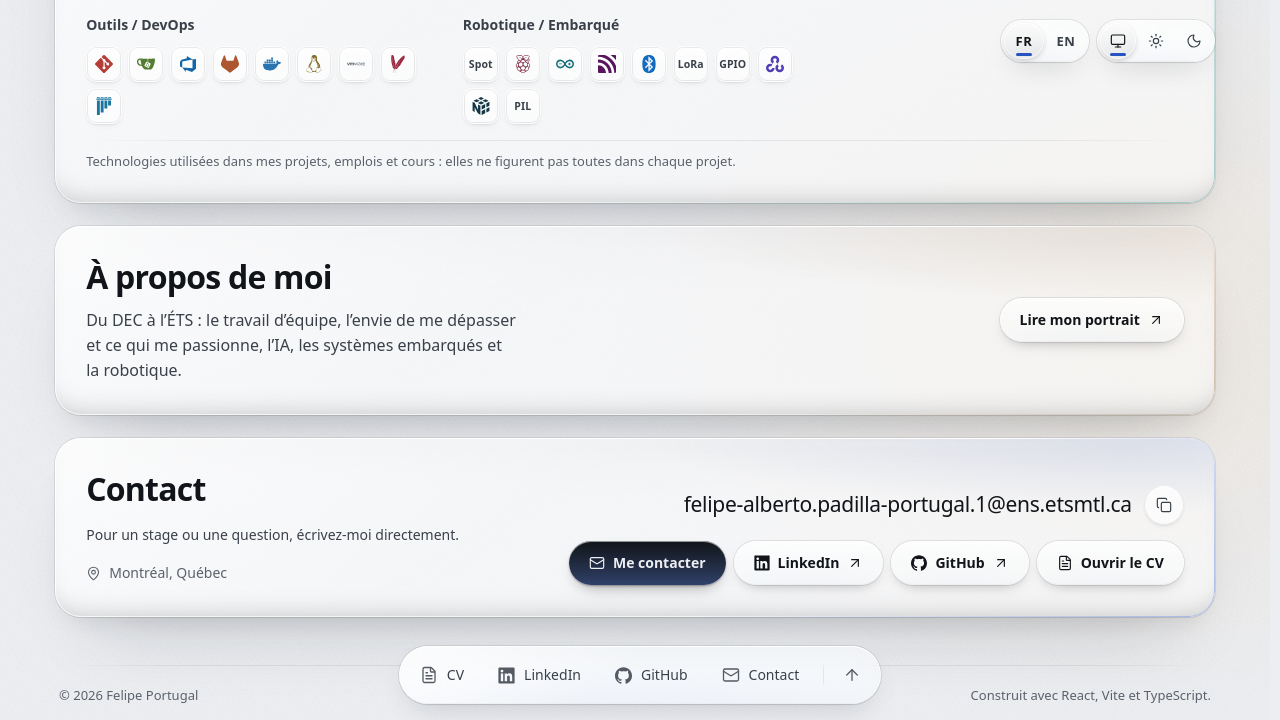
it: fenêtres › ouvre le portrait, puis rend le focus au bouton après Échap
This screenshot has width=1280, height=720.
(page scrolled)
Step 1. Click the button "Lire mon portrait" → click(1092, 320), box [1000,298,1184,342]
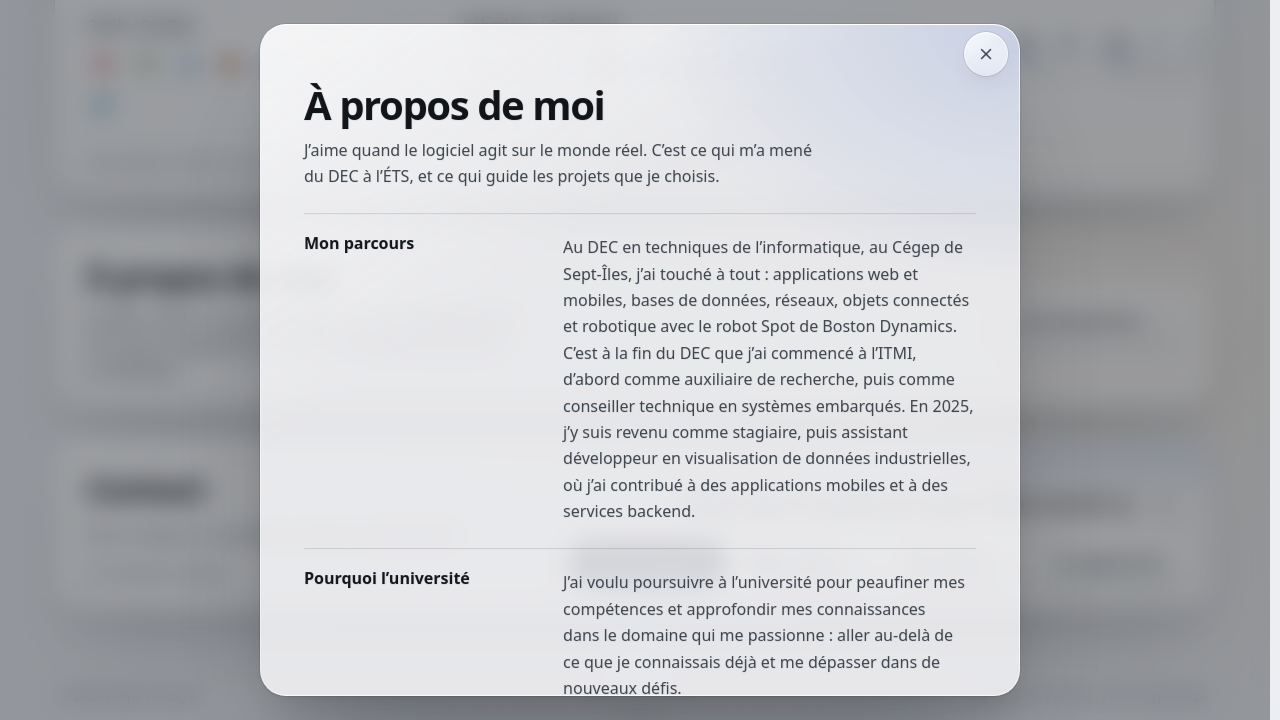
Check: the button "Lire mon portrait" is expanded, box [1000,298,1184,342]
Check: the heading "Pourquoi l’université" is shown, box [304,568,470,590]
Step 2. Press Escape in the dialog "À propos de moi", box [260,24,1020,696]
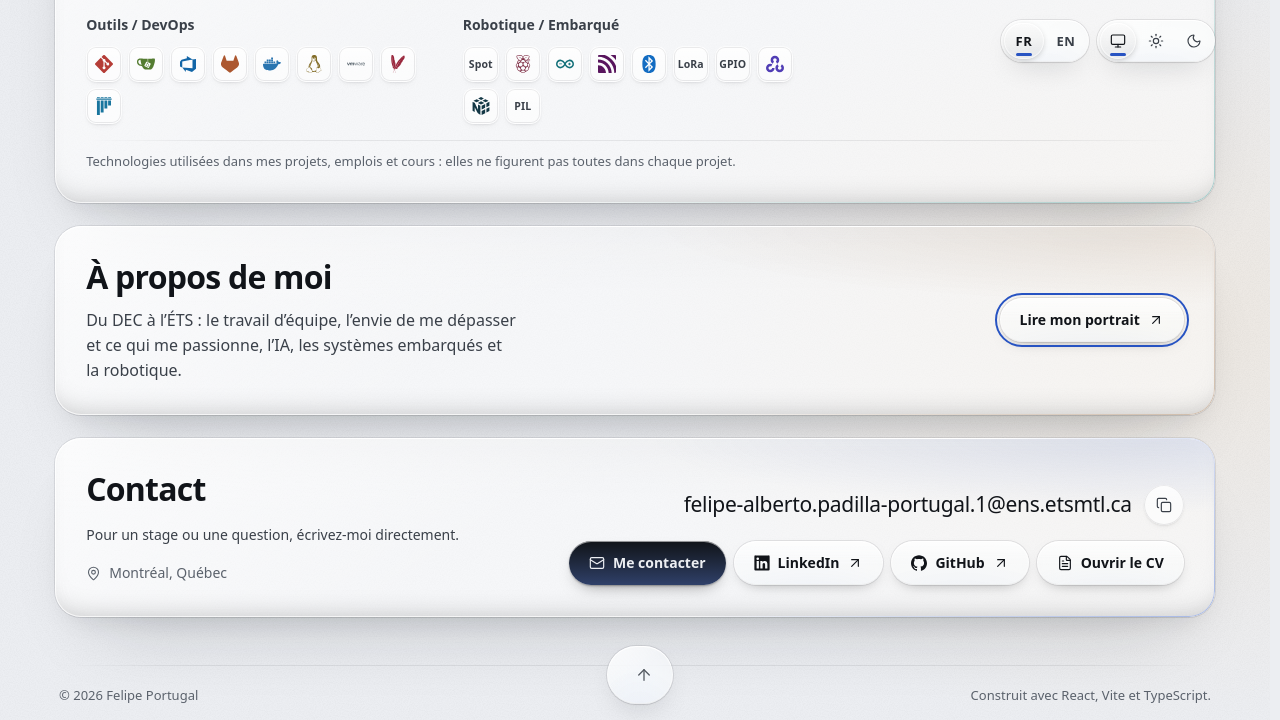
Check: the dialog is gone
Check: the button "Lire mon portrait" is collapsed, box [1000,298,1184,342]
